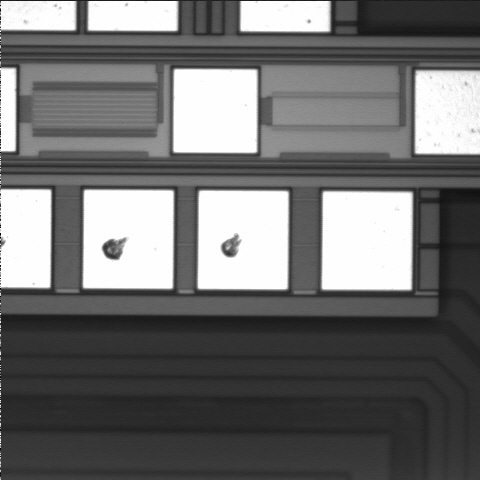pad: (83, 190, 173, 289), (198, 191, 288, 289), (322, 192, 412, 290), (173, 69, 257, 153)
